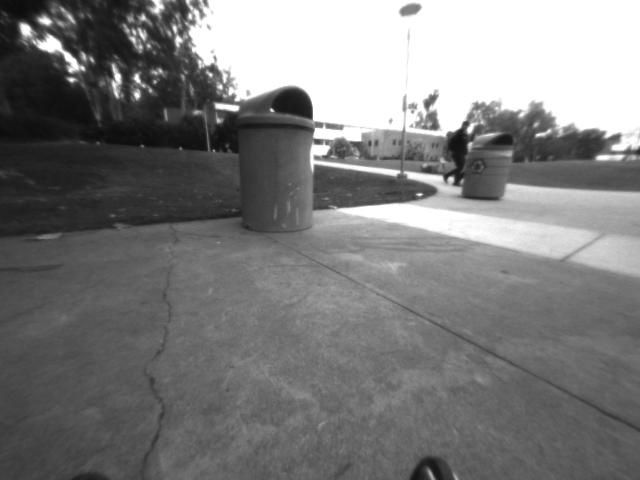trashcan: (235, 82, 318, 233)
